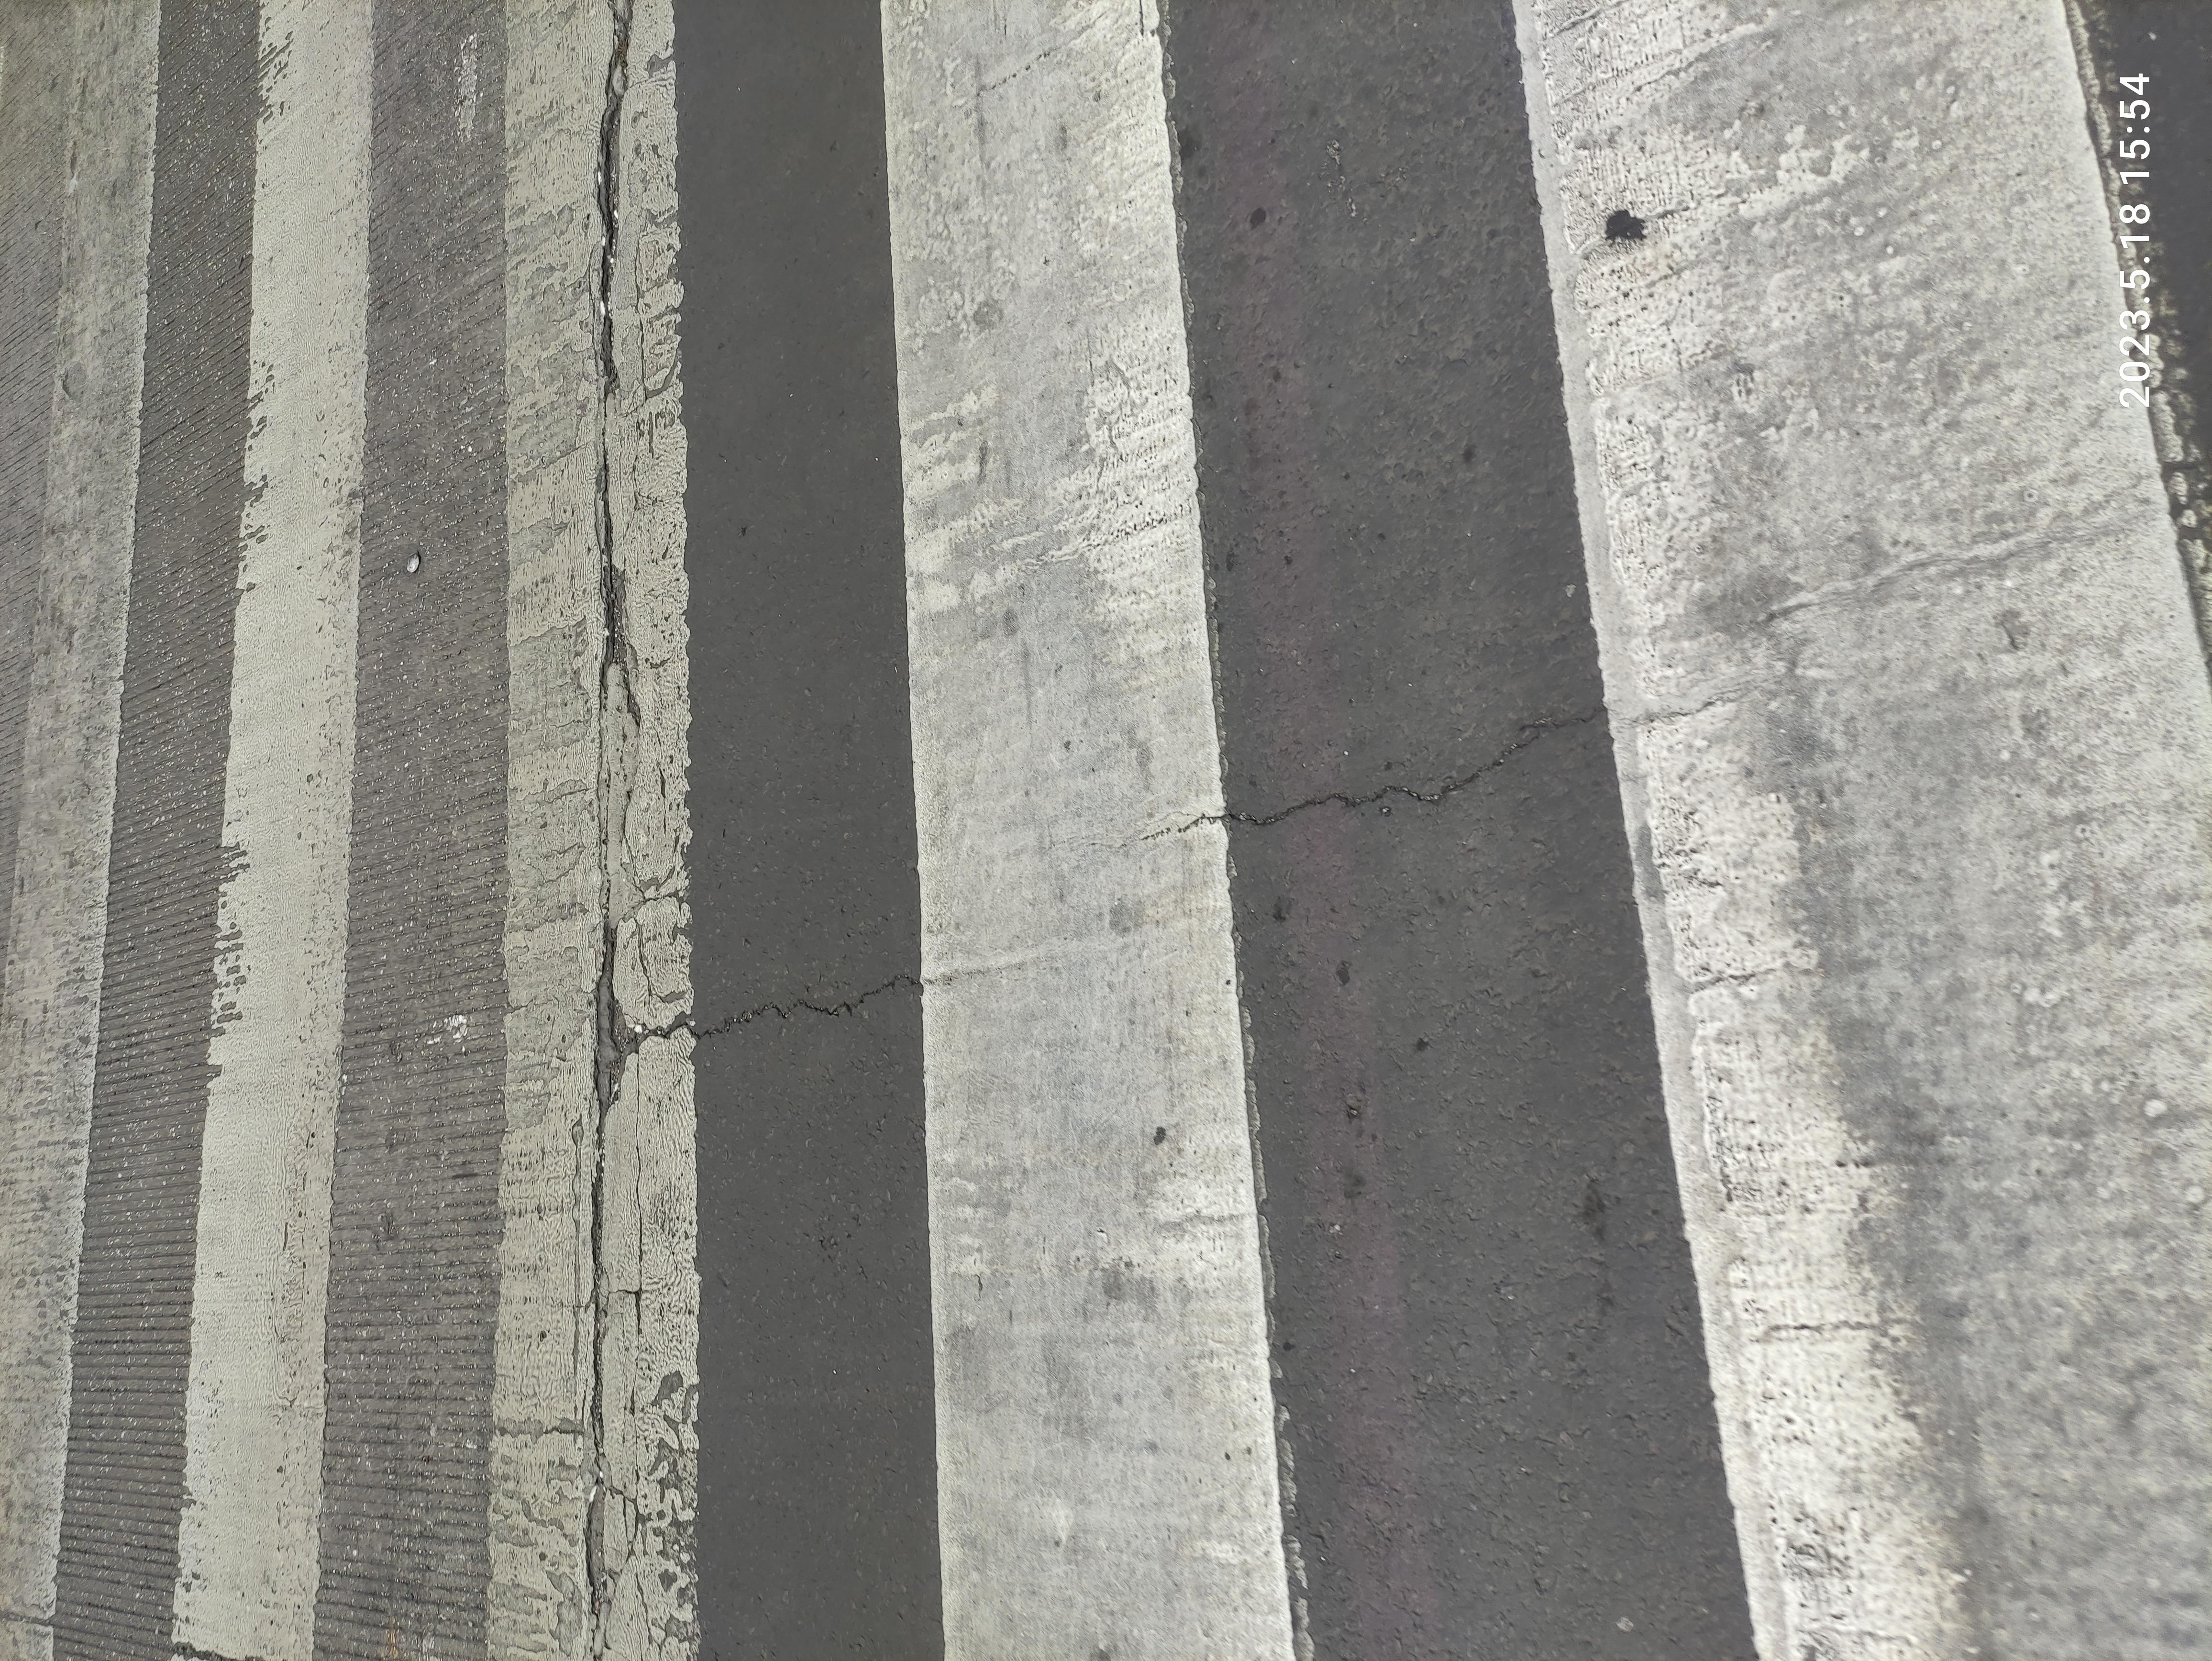crack: (23, 403, 2175, 518), (1000, 803, 1361, 1209), (759, 471, 987, 694)
